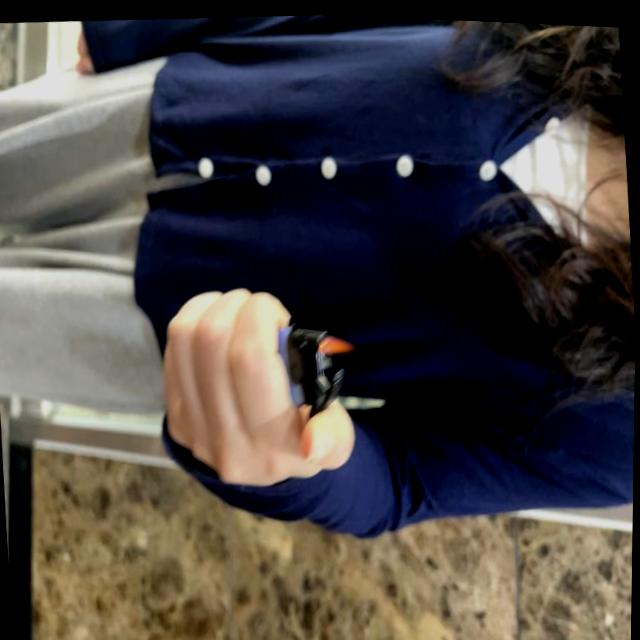helmet: (321, 325, 358, 353)
